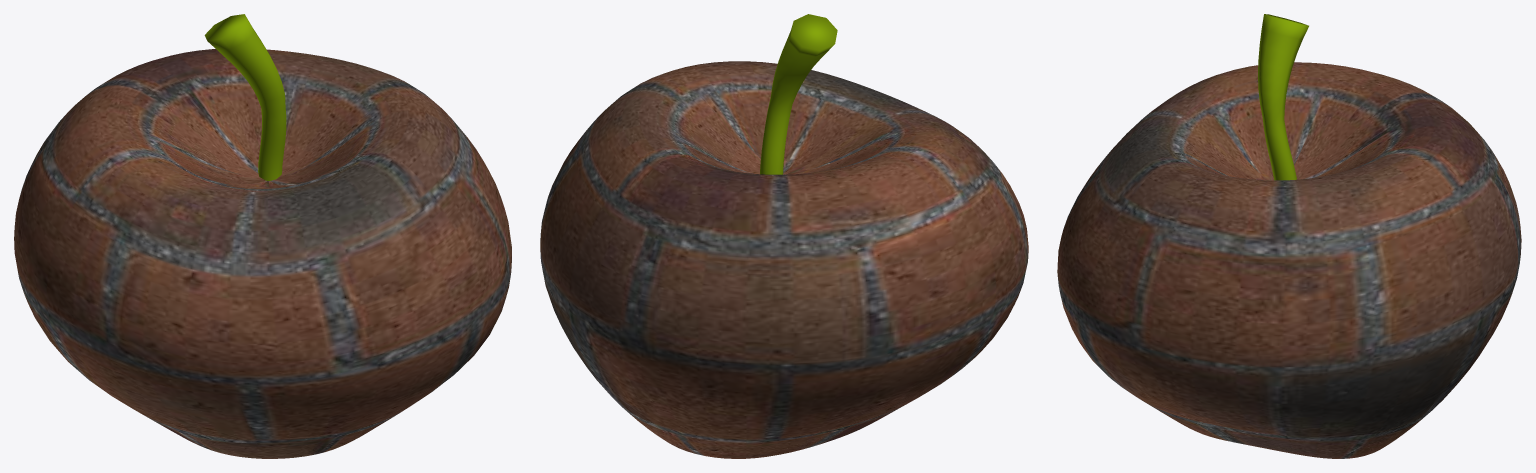
The model's file is apple03.glb.
3 views of the same model, side by side, from view 1: azimuth 30°, elevation 25°; view 2: azimuth 150°, elevation 25°; view 3: azimuth 270°, elevation 25° (orthographic). The views are drawn at different scales.
Visible parts, largest first — view 1: apple_body, apple_stem; view 2: apple_body, apple_stem; view 3: apple_body, apple_stem.
Part boxes in pixels (x1=…): apple_body: x1=14, y1=49, x2=511, y2=458; apple_stem: x1=204, y1=14, x2=286, y2=180; apple_body: x1=540, y1=61, x2=1028, y2=458; apple_stem: x1=760, y1=14, x2=837, y2=174; apple_body: x1=1057, y1=62, x2=1521, y2=458; apple_stem: x1=1258, y1=14, x2=1308, y2=180.
Bounding box in the file's own units: 1.15 × 1.05 × 1.12.
2 materials, 1 textured.
